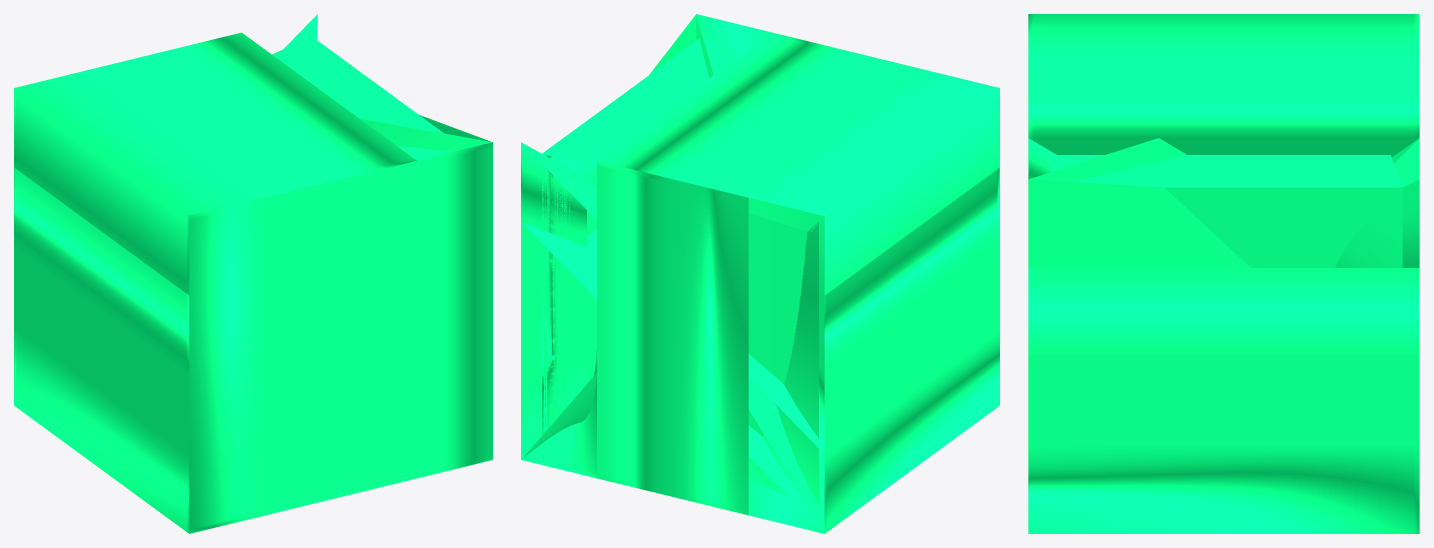
Rendered from hypercube_ar_universal.glb.
The picture shows the model from 3 angles, left to right: view 1: azimuth 30°, elevation 25°; view 2: azimuth 150°, elevation 25°; view 3: azimuth 270°, elevation 25°; orthographic projection. The views are drawn at different scales.
Visible parts, largest first — view 1: hypercube_ar; view 2: hypercube_ar; view 3: hypercube_ar.
Part boxes in pixels (x1,y1,x2,y2): hypercube_ar: (14, 14, 492, 533); hypercube_ar: (521, 14, 999, 533); hypercube_ar: (1028, 14, 1419, 533).
Bounding box in the file's own units: 1 × 1 × 1.
